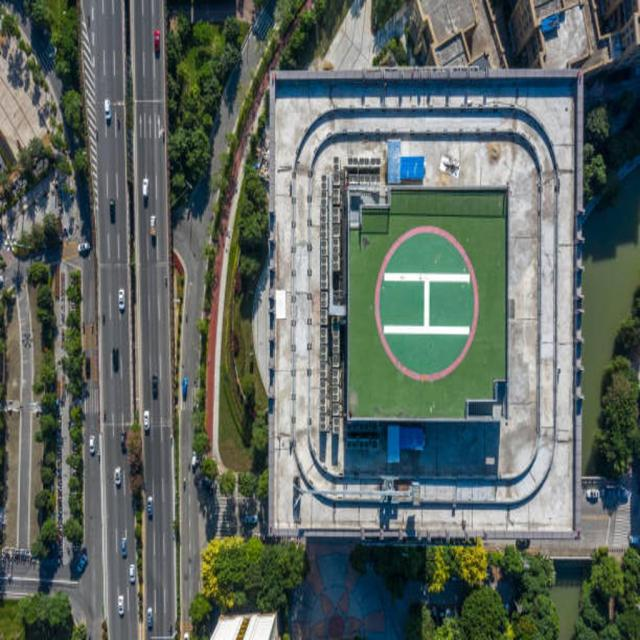helipad: (372, 224, 480, 382)
